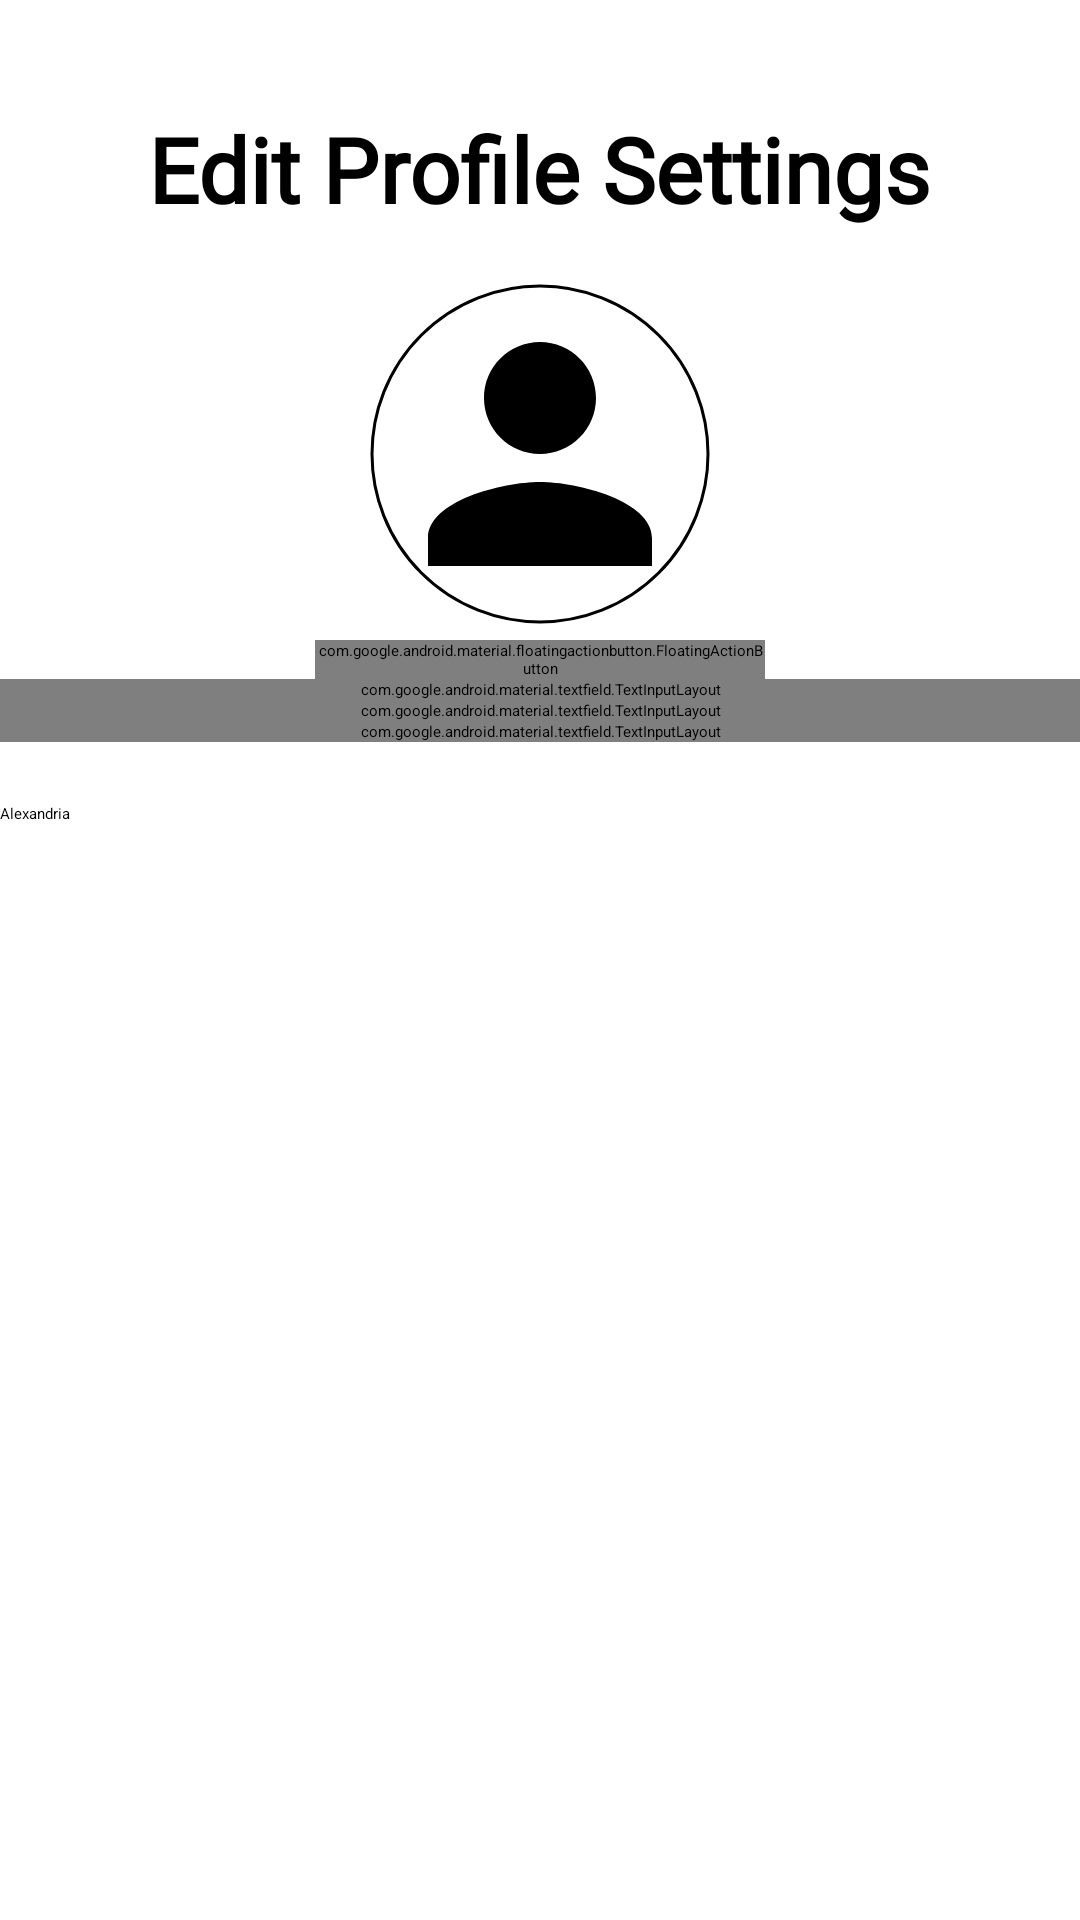

Locate icon controls on the screen. Image size 1080px x 1920px, boxes as (x1, y1, x2, y2).
person: (370, 284, 710, 624)
